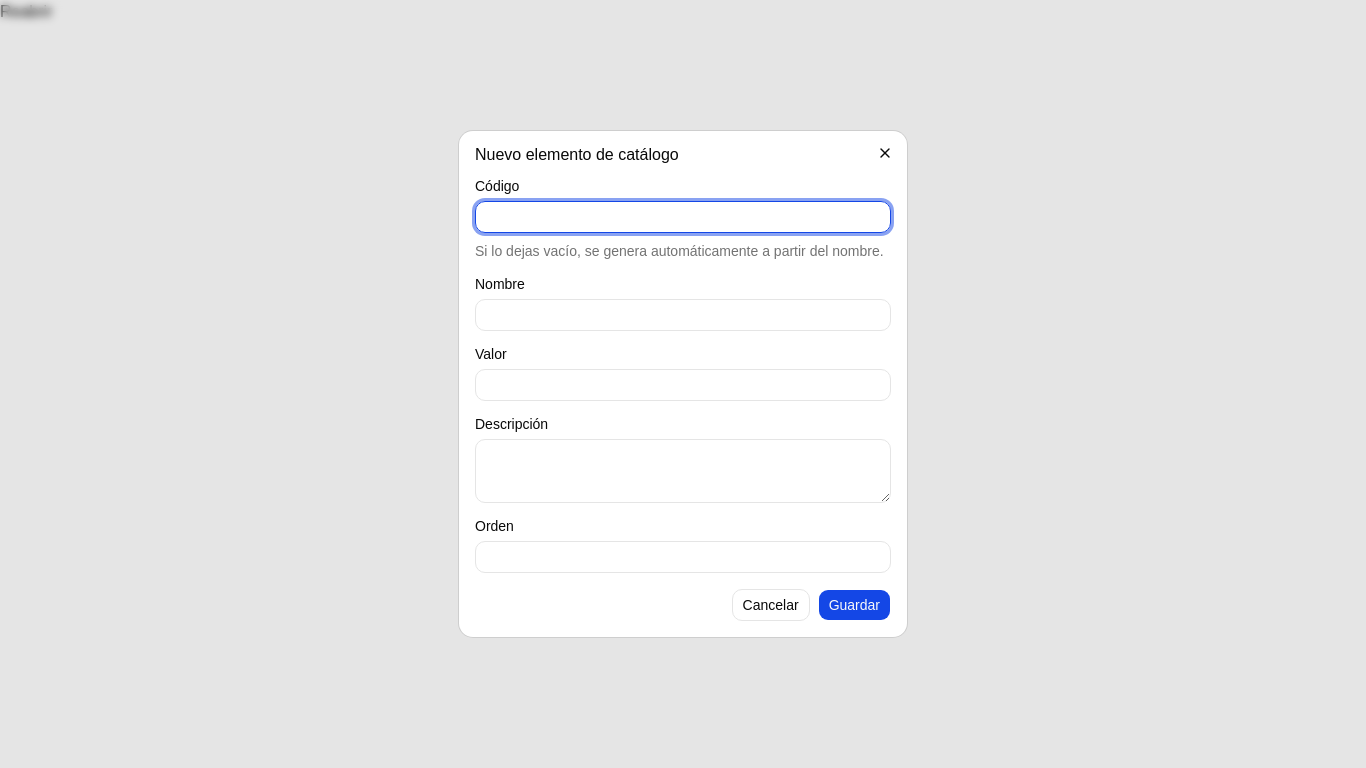
it: CatalogItemFormDialog — crear › un 409 con CATITEM_001_CODE_EXISTS marca el campo code y no abre un toast
This screenshot has width=1366, height=768.
Type "Muerte" into the field labelled "Nombre" at (683, 315), box [475,299,891,331]
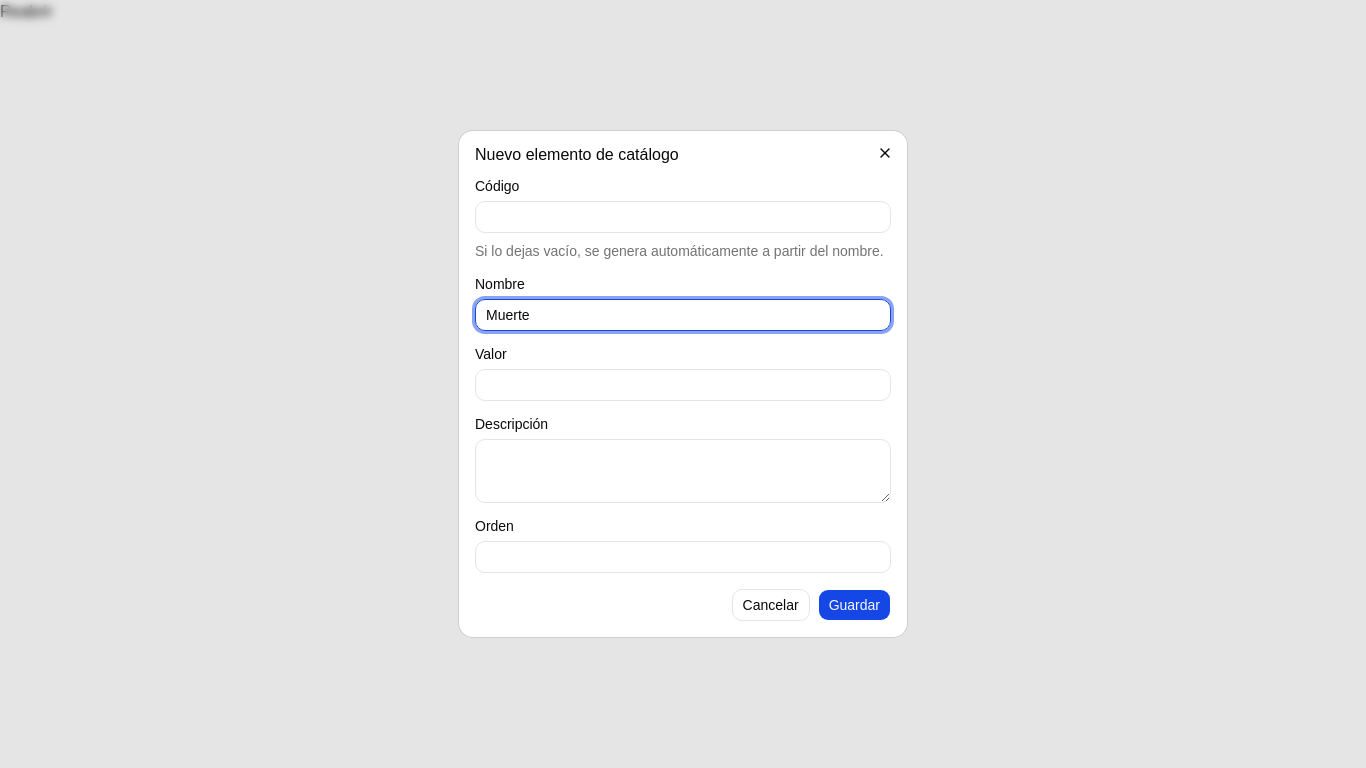
Type "DEATH" into the field labelled "Valor" at (683, 385), box [475,369,891,401]
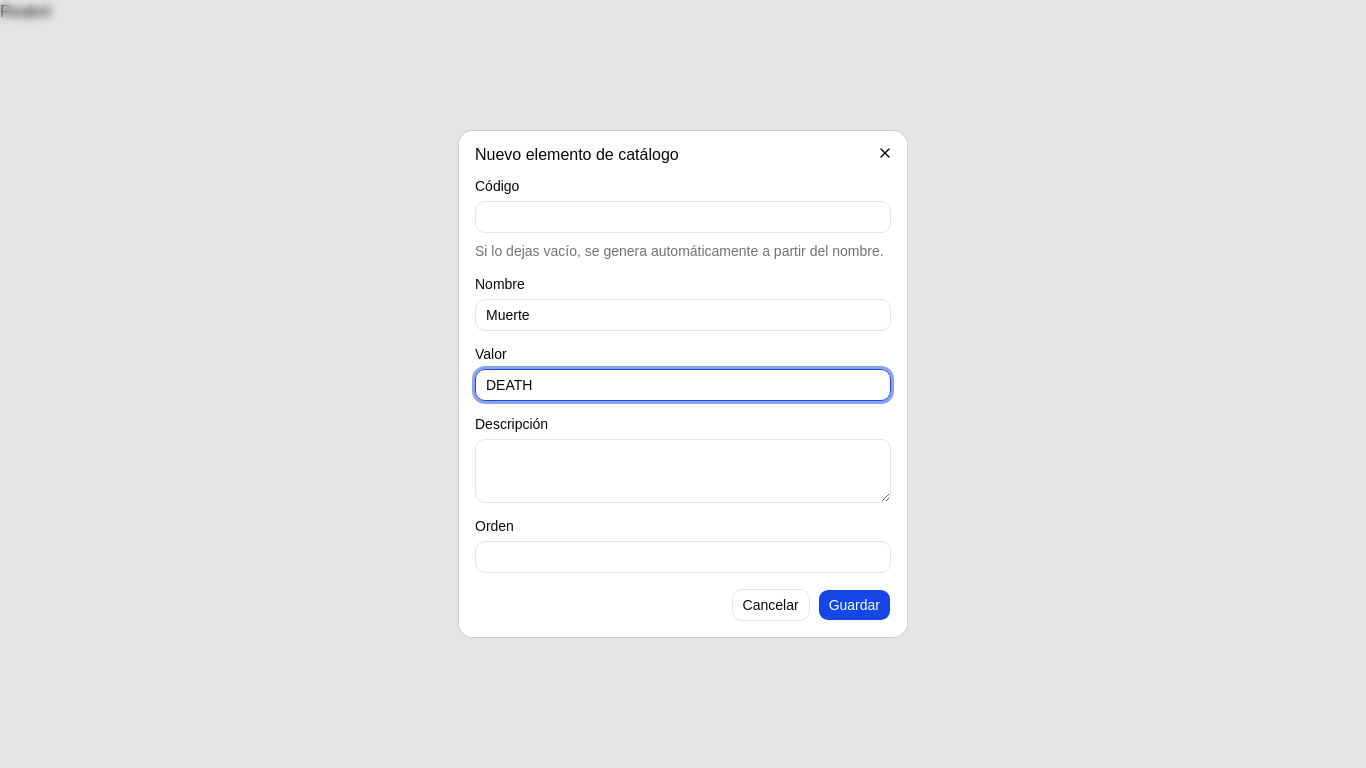
Click the button "Guardar" at (854, 605), box [818,589,891,621]
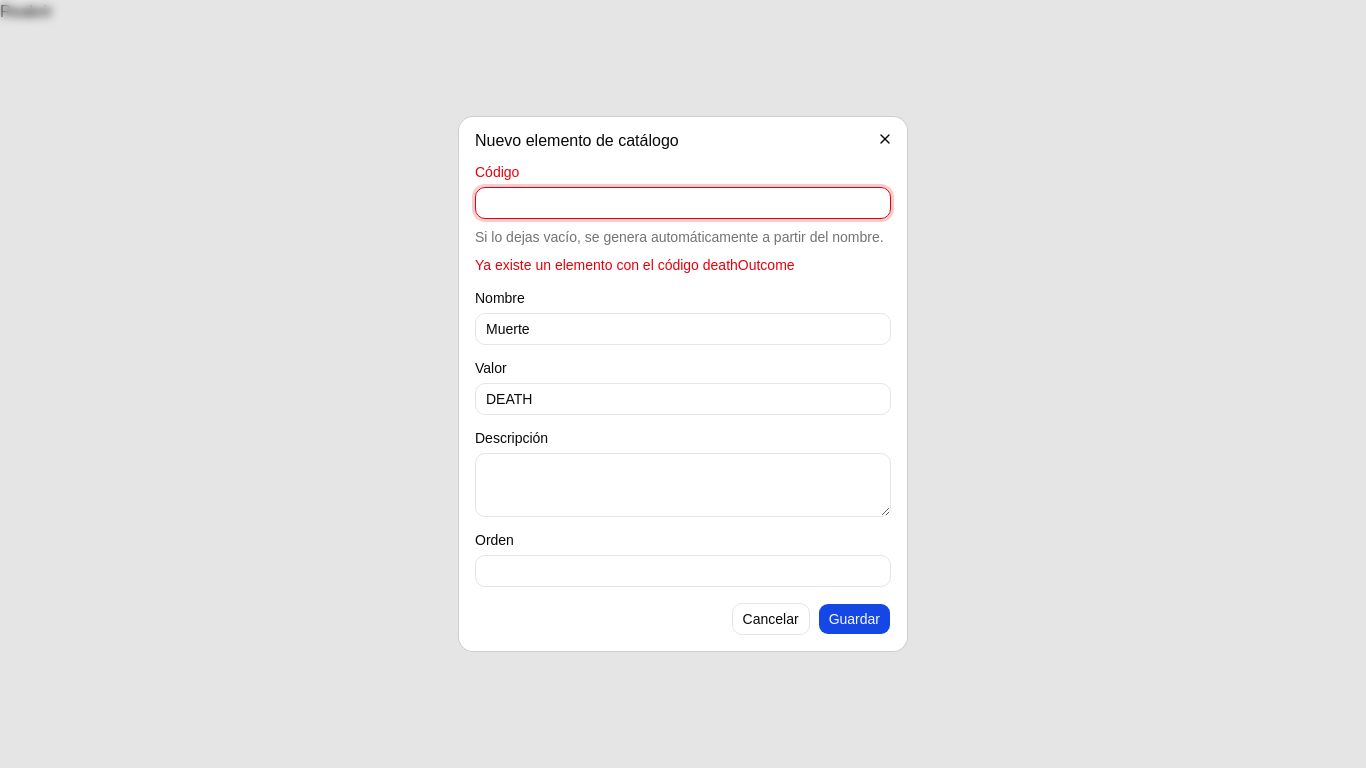
Expected: the text "Ya existe un elemento con el código deathOutcome" is shown, [475,257,795,273]
